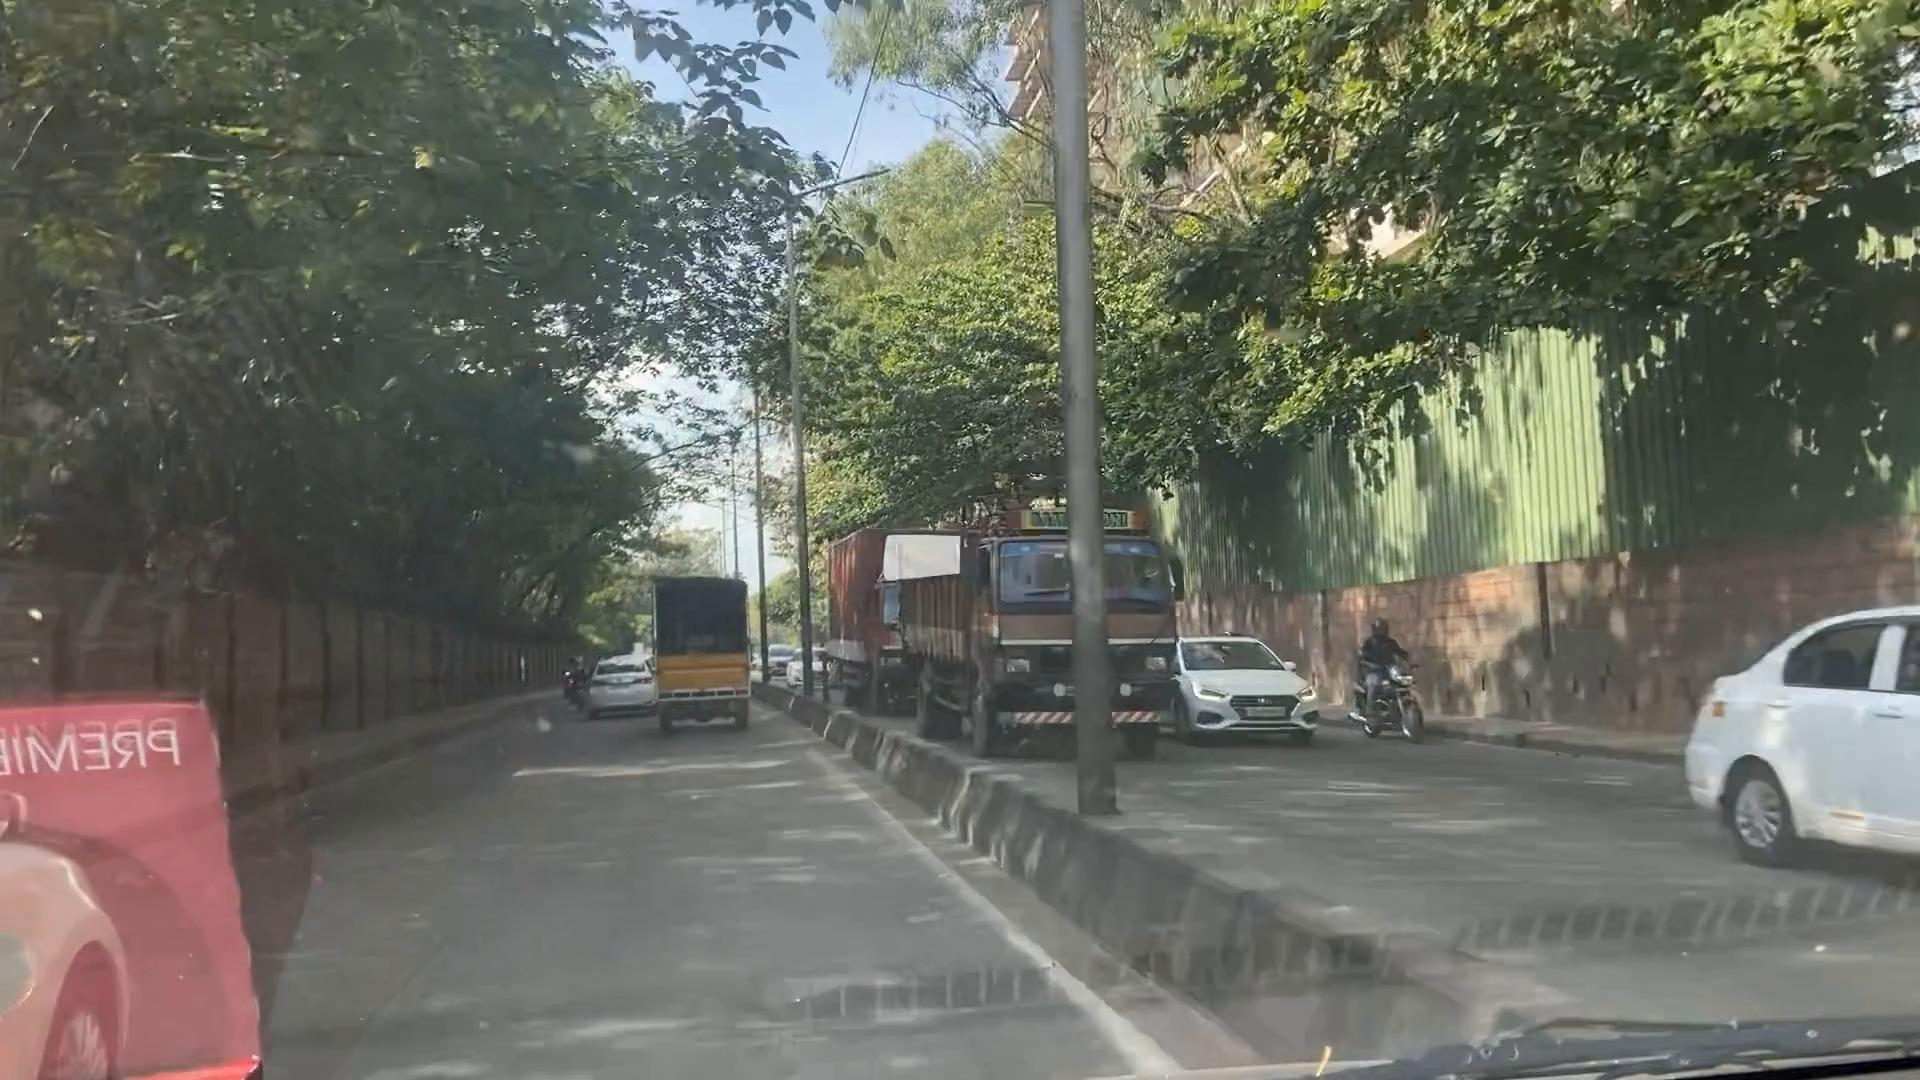HMV: (874, 468, 1212, 747), (644, 550, 769, 748)
